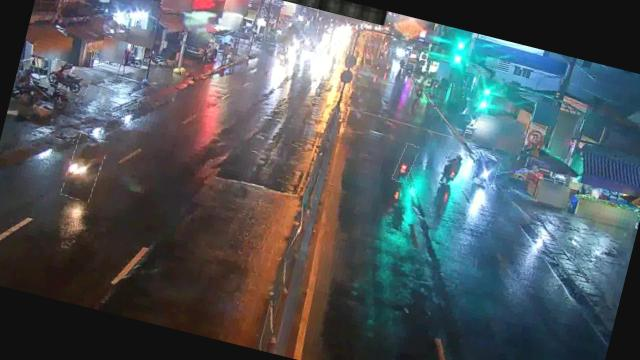Bike: (61, 133, 108, 204), (46, 60, 93, 96), (469, 150, 502, 188), (393, 142, 418, 185), (438, 150, 464, 187), (412, 78, 426, 100)
